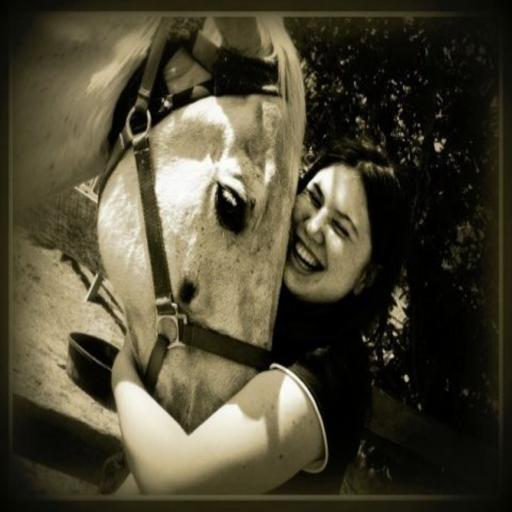horse: (10, 16, 306, 436)
